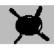not correct: (8, 6, 50, 43)
